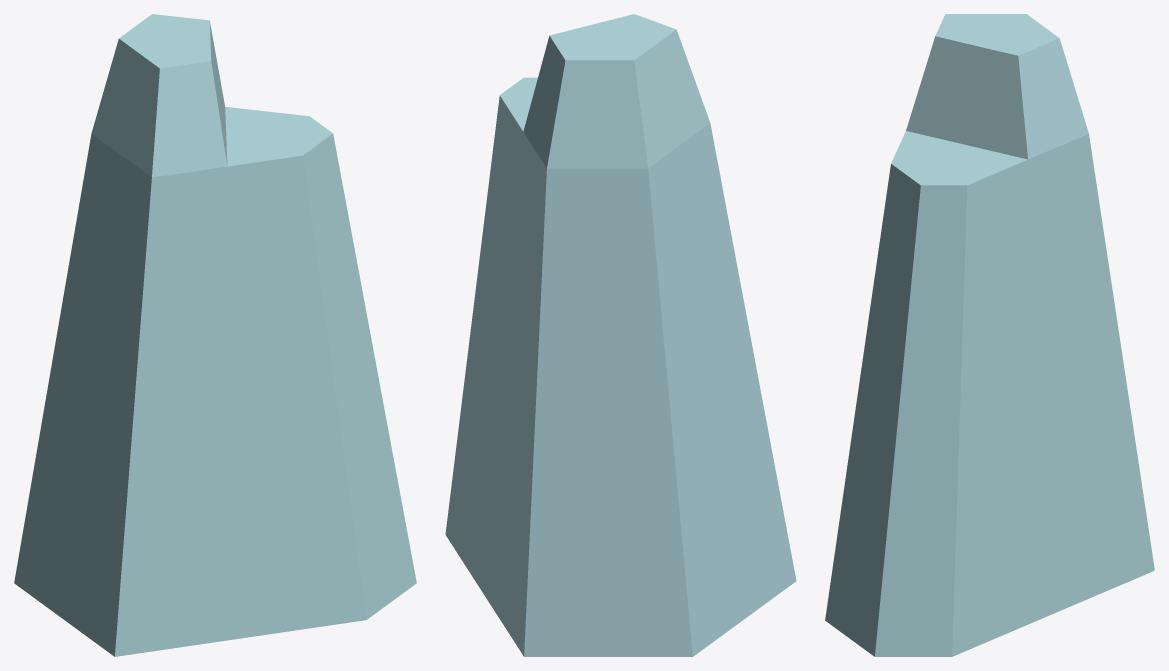
Rendered from stone_tallC.dae.
The picture shows the model from 3 angles, left to right: view 1: azimuth 30°, elevation 25°; view 2: azimuth 150°, elevation 25°; view 3: azimuth 270°, elevation 25°; orthographic projection. The views are drawn at different scales.
Parts seen in each view (by area): view 1: stone_tallC; view 2: stone_tallC; view 3: stone_tallC.
Boxes of the visible parts, left/top/right/bottom form: stone_tallC: left=14, top=14, right=416, bottom=656; stone_tallC: left=445, top=14, right=796, bottom=656; stone_tallC: left=825, top=14, right=1154, bottom=656.
Bounding box in the file's own units: 0.4562 × 0.7829 × 0.4365.
